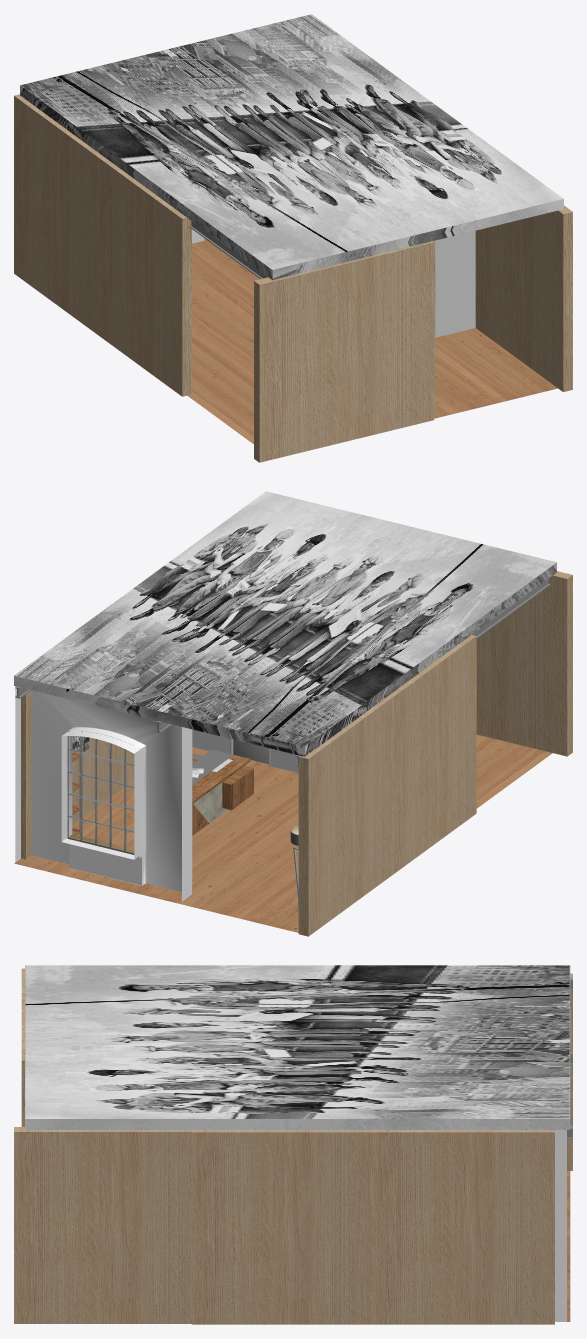
Rendered from OfficePresentationCleaned.fbx.
3 views of the same model, one above another, from view 1: azimuth 30°, elevation 25°; view 2: azimuth 150°, elevation 25°; view 3: azimuth 270°, elevation 25° (orthographic). The views are drawn at different scales.
Parts seen in each view (by area): view 1: ROOFClean, RIGHT_WALL__1_, FLOOR, REAR_WALL__1_, REAR_WALL__2_, RIGHT_WALL__2_, RIGHT_WALL, HBEAM_2; view 2: ROOFClean, Wall_6mx40cm_Window, FLOOR, REAR_WALL__2_, REAR_WALL__1_, RIGHT_WALL__1_, FACING_WALL, DESK_Clean, Wall_6mx40cm_Window.001, RIGHT_WALL, Reception_tableClean, REAR_WALL (+3 smaller); view 3: ROOFClean, REAR_WALL, FACING_WALL, RIGHT_WALL__2_, Wall_6mx40cm_Window, RIGHT_WALL__1_, REAR_WALL__2_, FLOOR.
Boxes of the visible parts, left/top/right/bottom form: ROOFClean: left=20, top=14, right=563, bottom=280; RIGHT_WALL__1_: left=254, top=241, right=434, bottom=462; FLOOR: left=187, top=238, right=557, bottom=444; REAR_WALL__1_: left=98, top=156, right=191, bottom=396; REAR_WALL__2_: left=14, top=94, right=102, bottom=334; RIGHT_WALL__2_: left=475, top=205, right=572, bottom=391; RIGHT_WALL: left=433, top=230, right=475, bottom=418; HBEAM_2: left=189, top=221, right=267, bottom=278; ROOFClean: left=14, top=491, right=556, bottom=756; Wall_6mx40cm_Window: left=15, top=686, right=192, bottom=902; FLOOR: left=14, top=734, right=552, bottom=932; REAR_WALL__2_: left=298, top=696, right=392, bottom=936; REAR_WALL__1_: left=388, top=635, right=476, bottom=874; RIGHT_WALL__1_: left=476, top=571, right=572, bottom=756; FACING_WALL: left=21, top=691, right=109, bottom=859; DESK_Clean: left=192, top=749, right=253, bottom=810; Wall_6mx40cm_Window.001: left=67, top=731, right=138, bottom=854; RIGHT_WALL: left=192, top=729, right=298, bottom=772; Reception_tableClean: left=192, top=782, right=227, bottom=835; REAR_WALL: left=111, top=743, right=134, bottom=796; ROOFClean: left=25, top=965, right=570, bottom=1129; REAR_WALL: left=191, top=1130, right=373, bottom=1324; FACING_WALL: left=373, top=1130, right=554, bottom=1324; RIGHT_WALL__2_: left=14, top=1127, right=191, bottom=1323; Wall_6mx40cm_Window: left=555, top=1130, right=566, bottom=1321; RIGHT_WALL__1_: left=21, top=968, right=24, bottom=1126; REAR_WALL__2_: left=567, top=973, right=572, bottom=1170; FLOOR: left=567, top=1171, right=570, bottom=1321.
Bounding box in the file's own units: 640 × 371 × 923.
